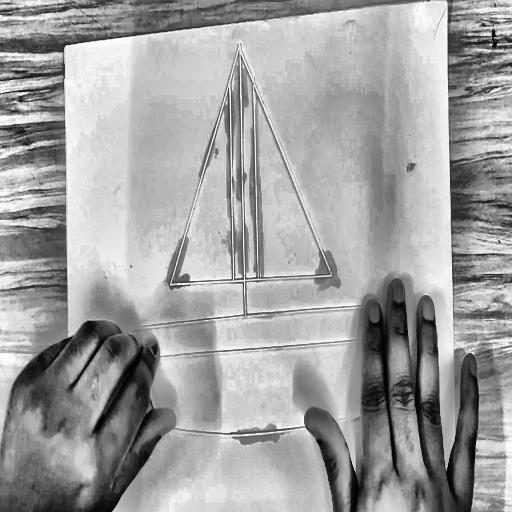boat: (117, 23, 388, 448)
bottom_right: (458, 498, 465, 510)
top_left: (62, 40, 69, 54)
